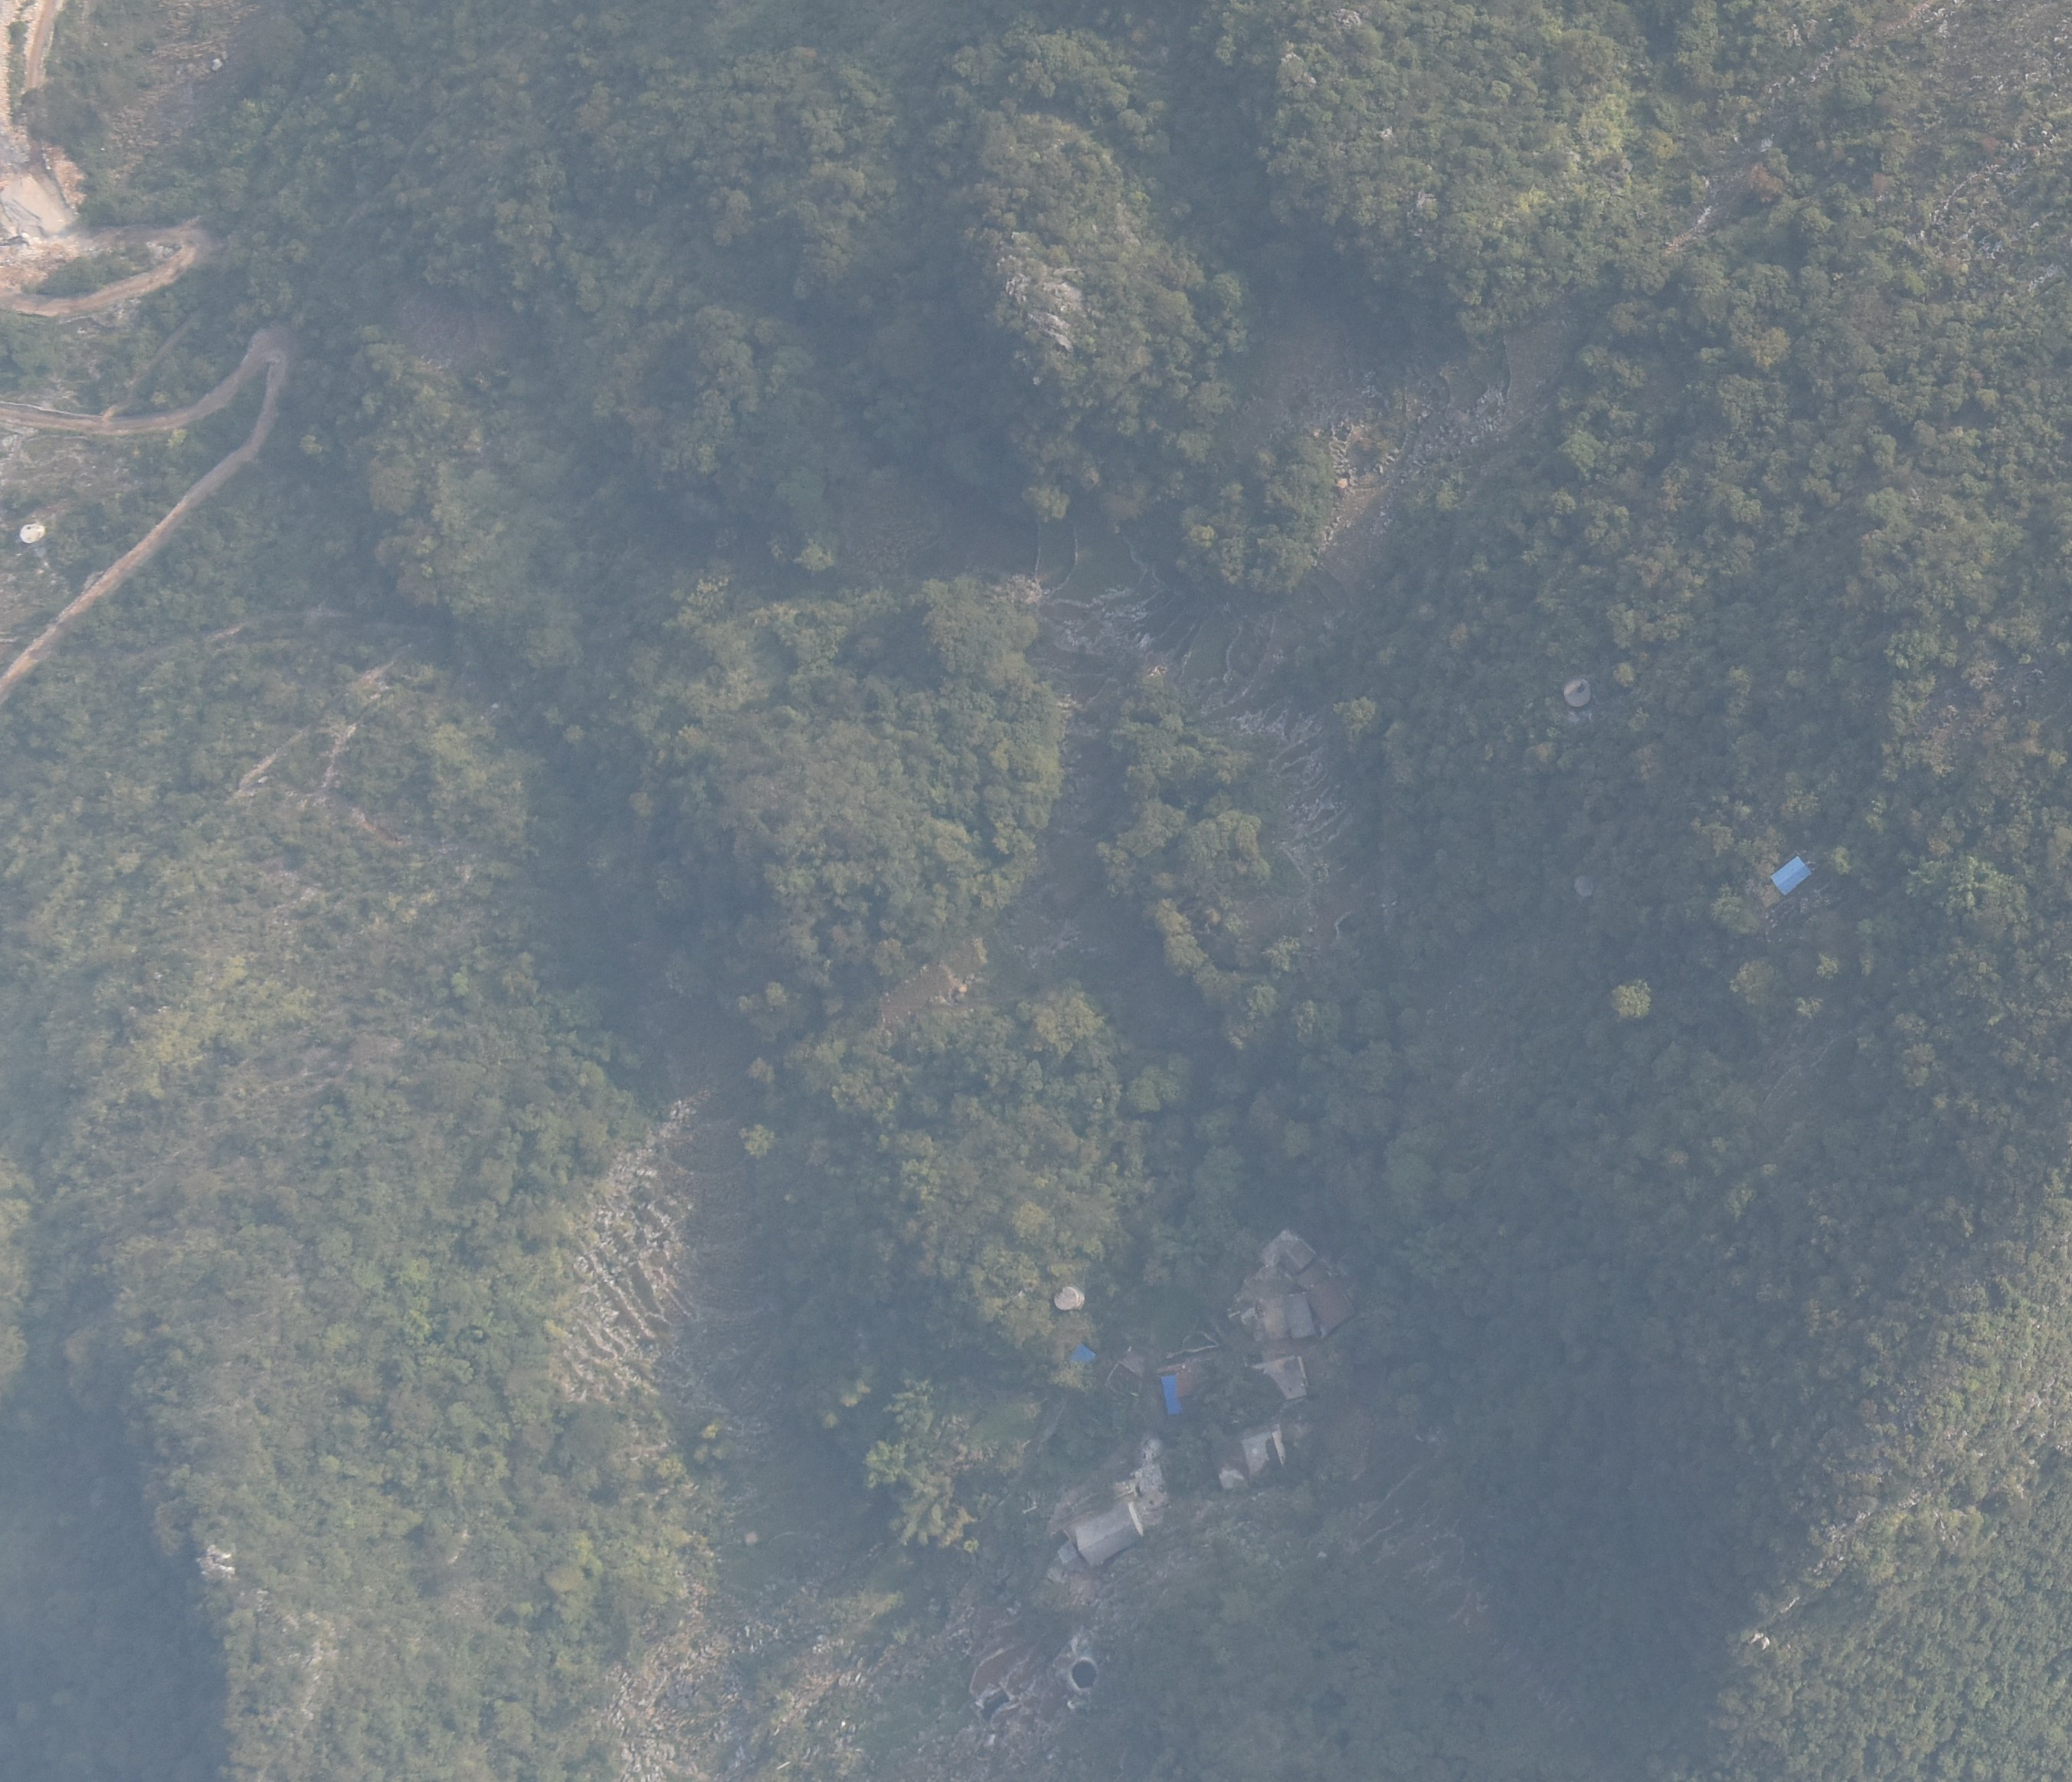building: (1066, 1500, 1151, 1563), (1239, 1354, 1311, 1403), (1237, 1426, 1291, 1488), (1279, 1290, 1321, 1350), (1276, 1236, 1313, 1273), (1054, 1542, 1085, 1578)
prefabricated-house: (1765, 851, 1817, 897), (1158, 1370, 1195, 1419), (1064, 1341, 1098, 1371)
well: (1558, 673, 1596, 714), (1064, 1657, 1103, 1694), (1050, 1283, 1091, 1318), (18, 515, 55, 546), (1570, 872, 1600, 899)
